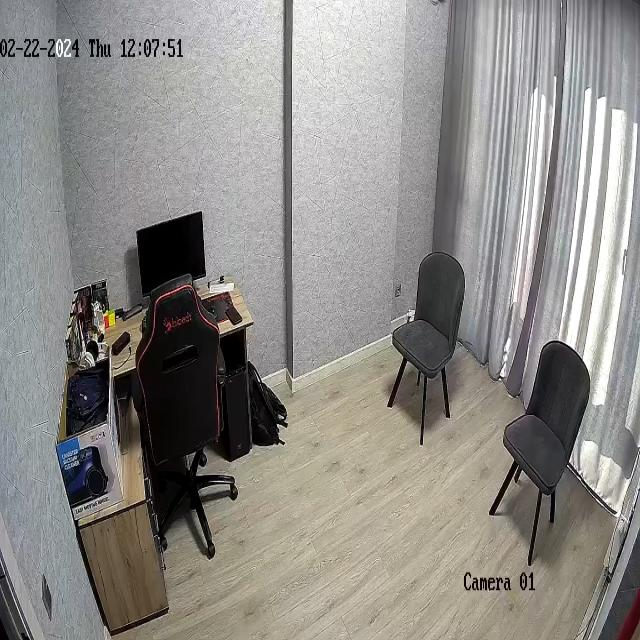chair: (486, 338, 592, 565), (386, 251, 466, 445)
